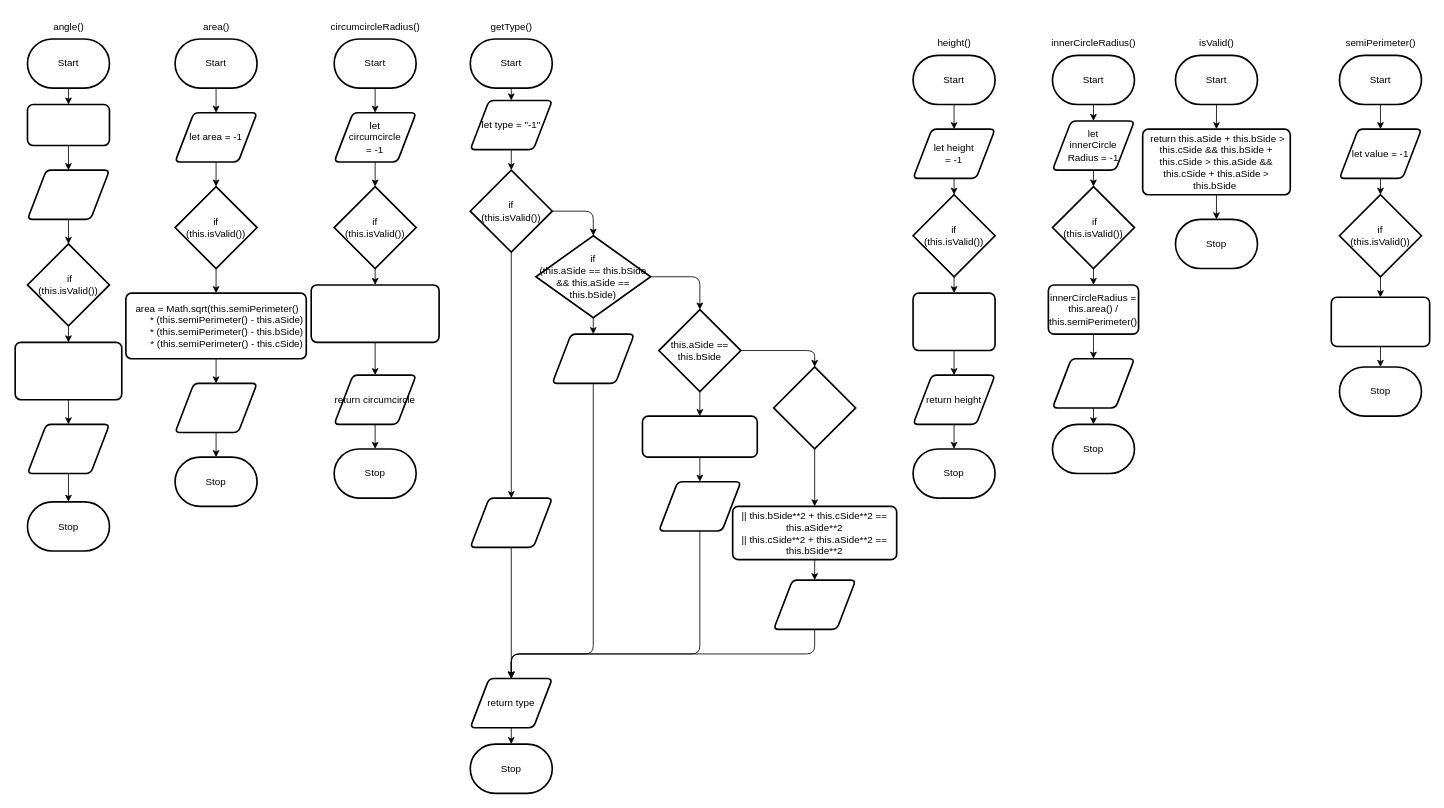
The diagram is 1444 pixels wide and 808 high, and some of its shapes have lost their labels. The centre of each missing label's shape, as x and y in pixels:
angle = Math.acos( (bSide**2 + cSide**2 - aSide**2) / (2 * bSide * cSide): the point at 68,370
angleNumber = (angleNumber - 1): the point at 68,124
circumcircle = (this.aSide * this.bSide * this.cSide) / (4 * this.area()): the point at 375,313
height = (2 * this.area()) / this.sides [sideNumber - 1]: the point at 953,321
let angle = -1: the point at 68,194
return angle: the point at 68,448
return area: the point at 215,407
return inner Circle Radius: the point at 1093,383
this.aSide**2 + this.bSide**2 == this.cSide**2: the point at 814,407
type = "Equilateral Triangle": the point at 593,358
type = "Isosceles Triangle": the point at 699,506
type = "Right Triangle": the point at 814,604
type = "Scalene Triangle": the point at 511,522
value = (this.aSide + this.bSide + this.cSide) / 2: the point at 1380,321
|| this.bSide == this.cSide || this.cSide == this.aSide: the point at 699,436
